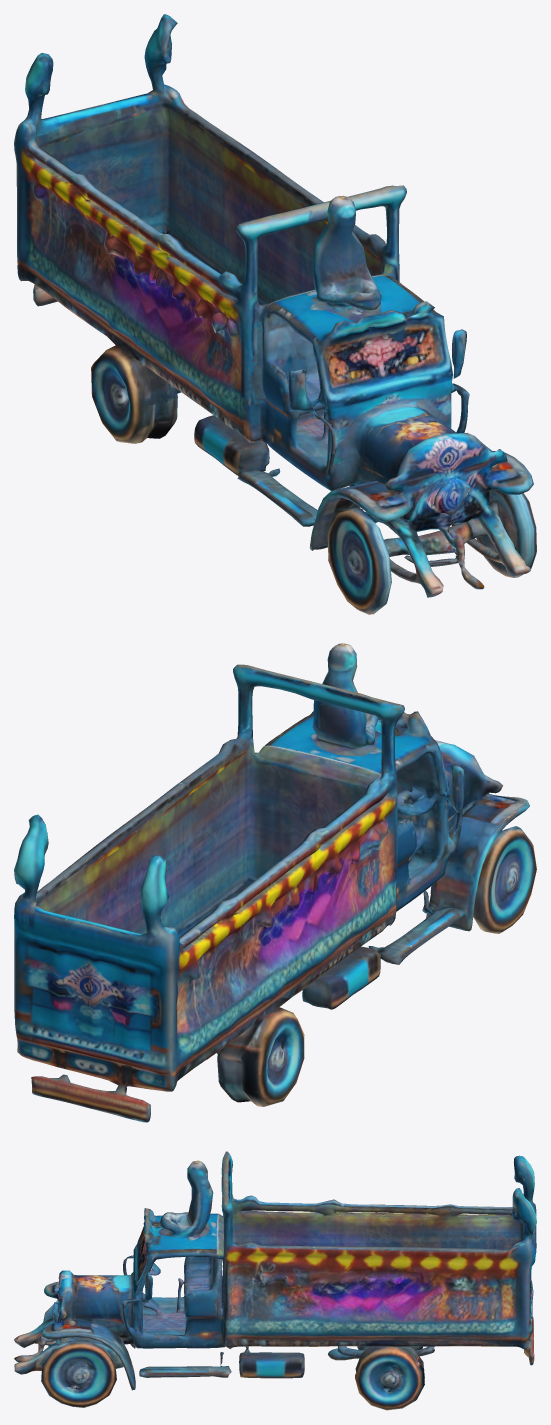
File: Neon_Temple_Parade_0105072238_texture.glb
The picture shows the model from 3 angles, top to bottom: view 1: azimuth 30°, elevation 25°; view 2: azimuth 150°, elevation 25°; view 3: azimuth 270°, elevation 25°; orthographic projection. The views are drawn at different scales.
Size of the model in its own units: 0.523 by 0.9324 by 1.99.
Materials: 1 (1 with a texture image).
